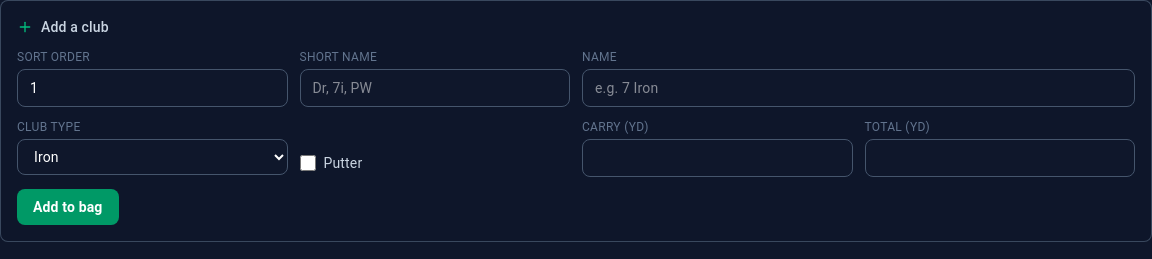
Scenario: BagAddClubForm Component › Putter / Club Type Syncing › sets club type to putter when putter checkbox is checked
Click the checkbox labelled "Putter".
click(308, 163)  # box [300,155,316,171]
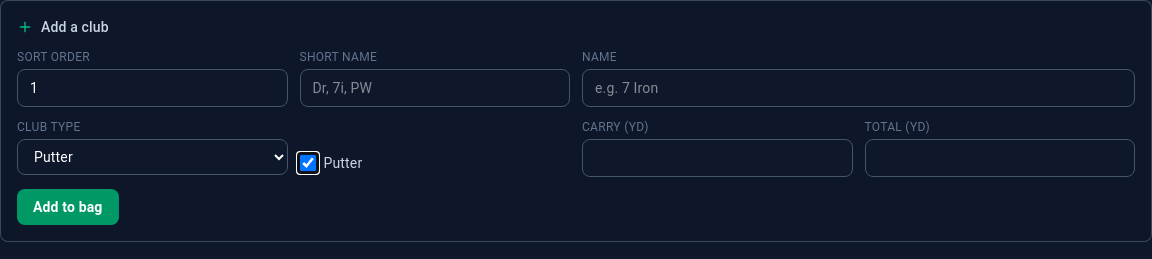
Result: the checkbox labelled "Putter" is checked at [300,155,316,171]
Result: the dropdown labelled "Club type" shows "Putter" at [17,139,288,175]
